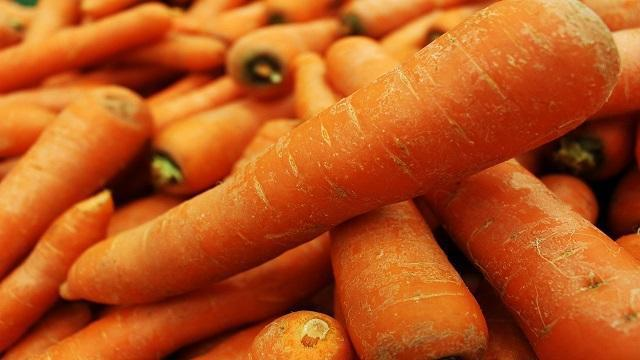carrot: (52, 9, 637, 360), (0, 77, 135, 360)
